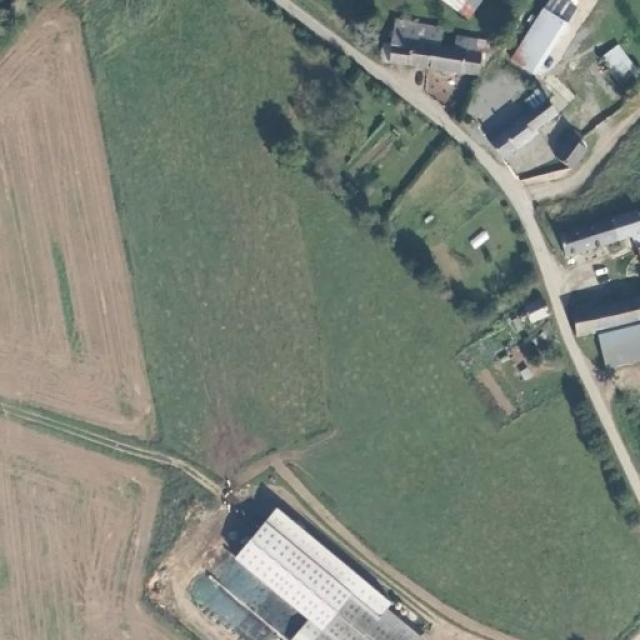ferme: (518, 302, 552, 326)
maison: (380, 10, 495, 75), (509, 0, 585, 82), (480, 88, 555, 159), (561, 210, 640, 264)
usine: (164, 497, 433, 640)
